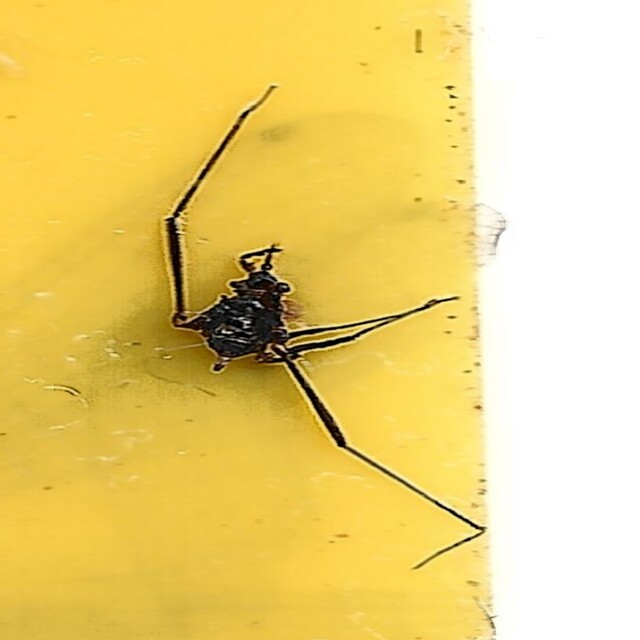Hemiptera: (158, 88, 482, 552)
